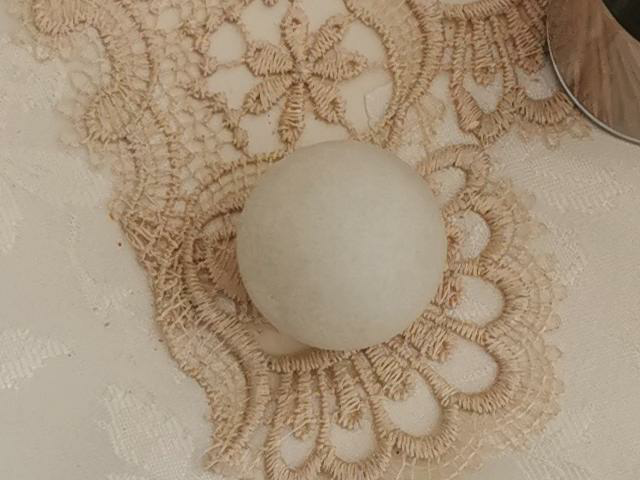ball: (236, 142, 449, 353)
